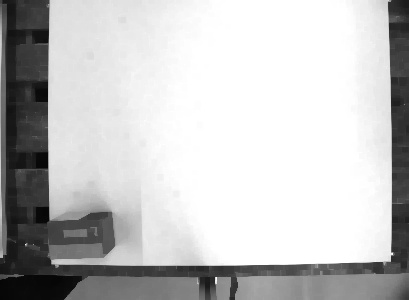b4: (44, 209, 117, 260)
